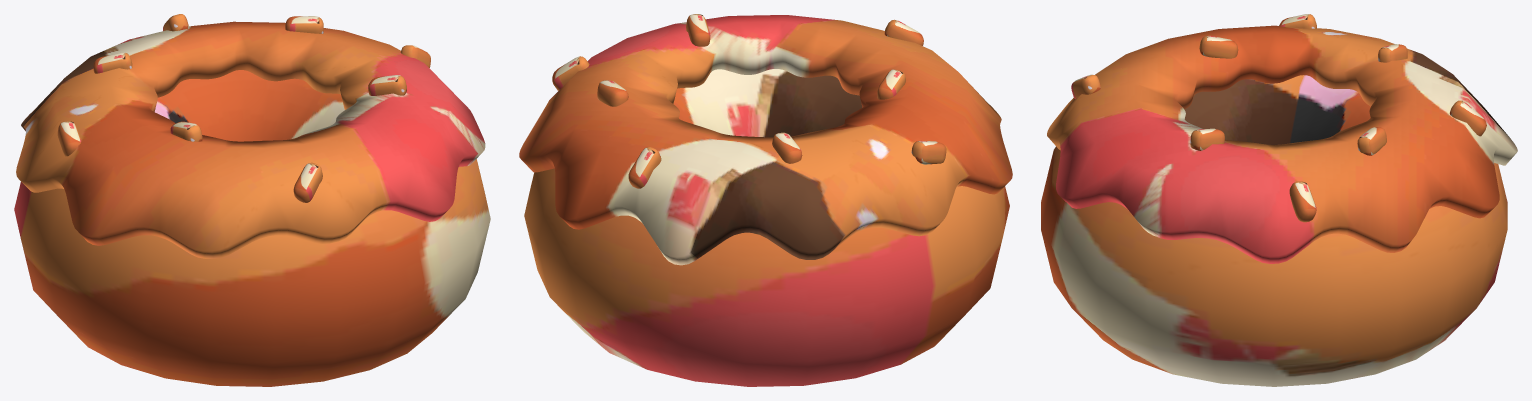
File: Pin_Model_15.fbx
3 renders of one model, left to right at view 1: azimuth 30°, elevation 25°; view 2: azimuth 150°, elevation 25°; view 3: azimuth 270°, elevation 25°, orthographic. The views are drawn at different scales.
Parts seen in each view (by area): view 1: Pin_Model_15, Torus_003, Cube_027, Cube_031, Cube_025, Cube_022, Cube_024, Cube_026; view 2: Torus_003, Pin_Model_15, Cube_023, Cube_025, Cube_024, Cube_031, Cube_022, Cube_021, Cube_026, Cube_027; view 3: Pin_Model_15, Torus_003, Cube_021, Cube_026, Cube_023, Cube_022, Cube_031, Cube_027, Cube_024, Cube_025.
Boxes of the visible parts, left/top/right/bottom form: Pin_Model_15: left=14, top=70, right=490, bottom=386; Torus_003: left=16, top=21, right=485, bottom=258; Cube_027: left=293, top=162, right=322, bottom=202; Cube_031: left=368, top=75, right=406, bottom=95; Cube_025: left=57, top=121, right=81, bottom=156; Cube_022: left=285, top=16, right=323, bottom=33; Cube_024: left=93, top=52, right=132, bottom=73; Cube_026: left=170, top=121, right=202, bottom=141; Torus_003: left=519, top=15, right=1012, bottom=265; Pin_Model_15: left=524, top=69, right=1009, bottom=386; Cube_023: left=628, top=147, right=661, bottom=188; Cube_025: left=911, top=140, right=946, bottom=164; Cube_024: left=772, top=132, right=802, bottom=163; Cube_031: left=686, top=14, right=710, bottom=46; Cube_022: left=597, top=80, right=628, bottom=106; Cube_021: left=552, top=56, right=589, bottom=90; Cube_026: left=877, top=69, right=905, bottom=99; Cube_027: left=884, top=19, right=923, bottom=45; Pin_Model_15: left=1041, top=75, right=1507, bottom=386; Torus_003: left=1047, top=25, right=1517, bottom=263; Cube_021: left=1289, top=181, right=1316, bottom=222; Cube_026: left=1199, top=35, right=1238, bottom=58; Cube_023: left=1449, top=100, right=1486, bottom=136; Cube_022: left=1357, top=127, right=1386, bottom=155; Cube_031: left=1190, top=128, right=1224, bottom=150; Cube_027: left=1071, top=74, right=1100, bottom=98; Cube_024: left=1378, top=44, right=1407, bottom=62; Cube_025: left=1279, top=14, right=1316, bottom=28.
Bounding box in the file's own units: 0.6161 × 0.3486 × 0.6202.
3 materials, 3 textured.
